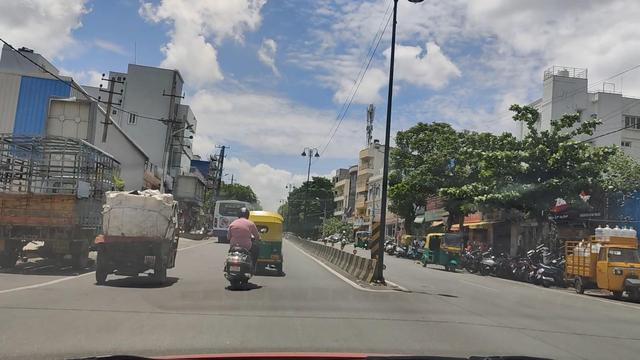HMV: (3, 135, 107, 281)
LMV: (102, 194, 181, 289), (225, 207, 264, 287), (248, 223, 294, 271)
